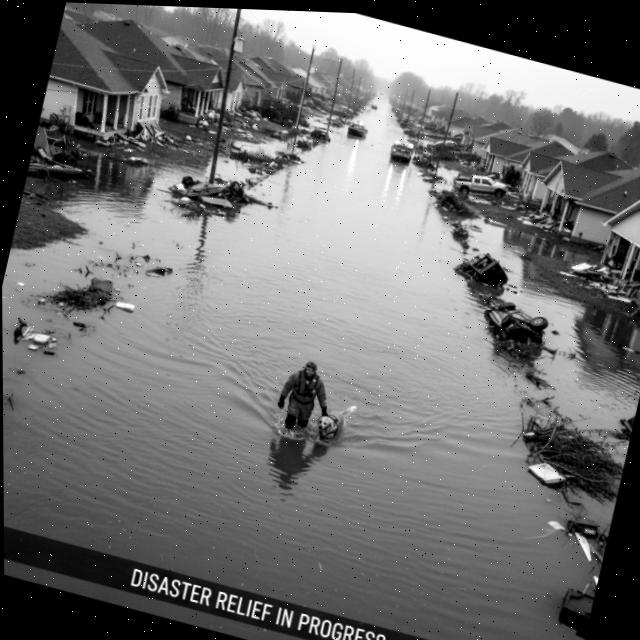dog: (306, 393, 366, 458)
rescuer: (267, 349, 341, 444)
